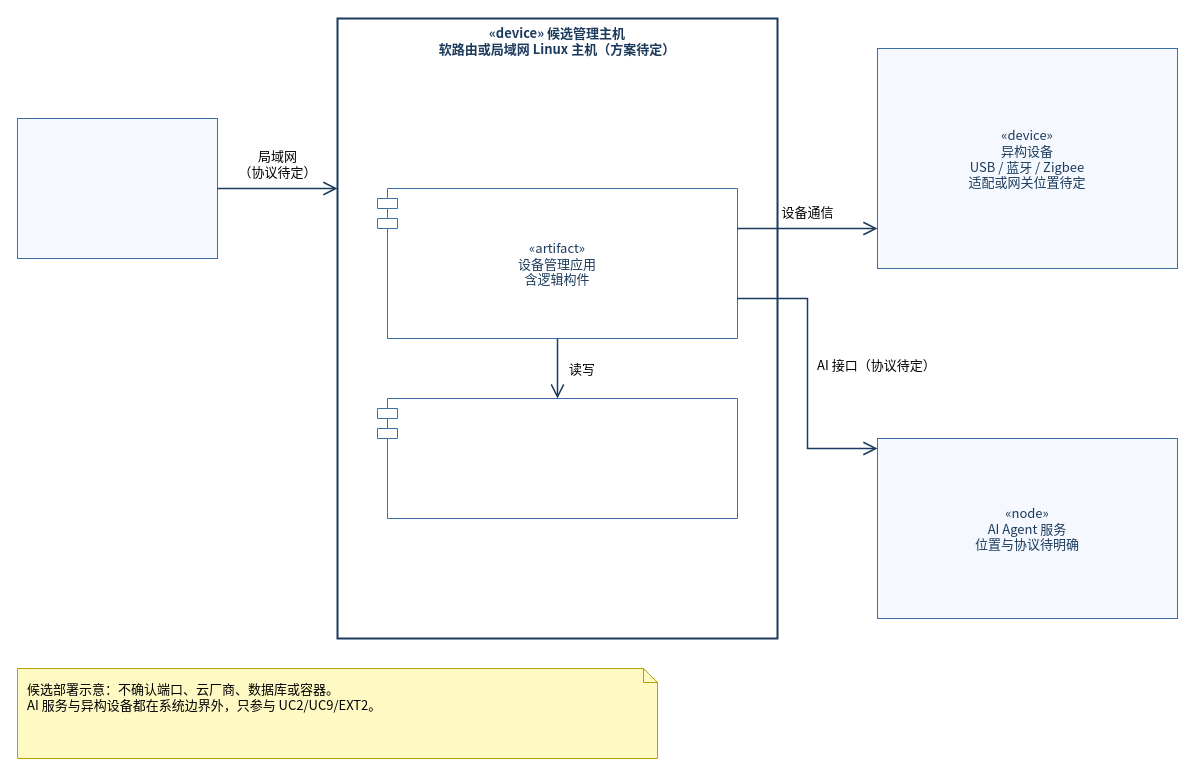
This 1195x776 diagram has some shape labels left out. The centre of each missing label's shape, as x and y in pixels:
«artifact» 逻辑数据存储（位置待定）: (x=557, y=458)
«device» 人员终端 交互客户端: (x=117, y=188)
